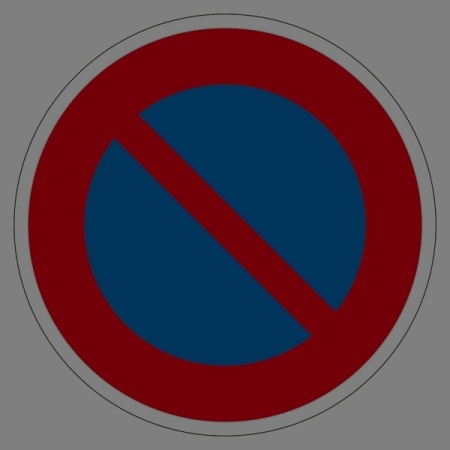Prohibition_sign: (2, 1, 450, 442)
